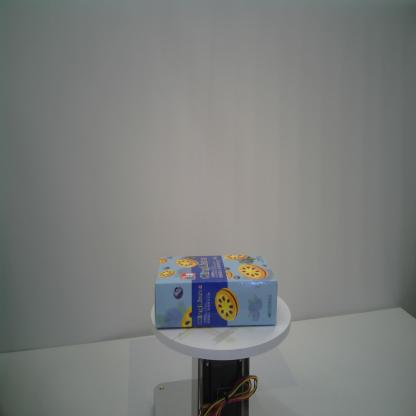Dessert: (154, 254, 277, 329)
